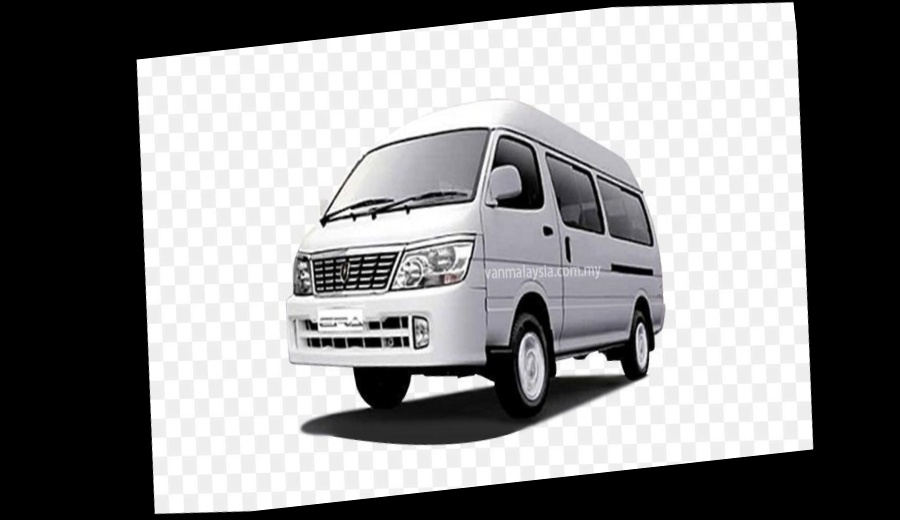van: (252, 62, 698, 431)
